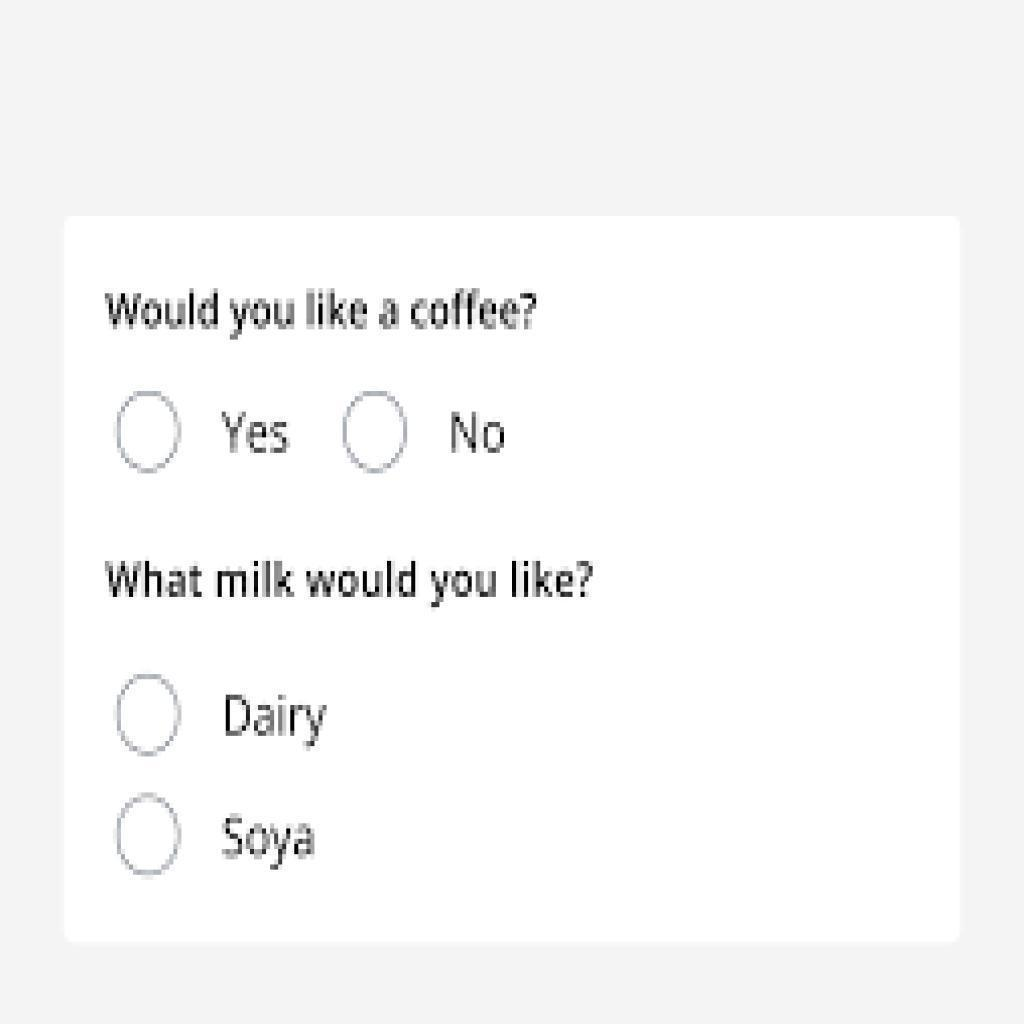label: (103, 550, 596, 613), (101, 278, 539, 342), (222, 689, 329, 753), (216, 805, 321, 865), (213, 409, 297, 464), (444, 404, 510, 458)
radio: (111, 786, 189, 880), (110, 389, 183, 477), (114, 672, 186, 755), (345, 390, 407, 478)
